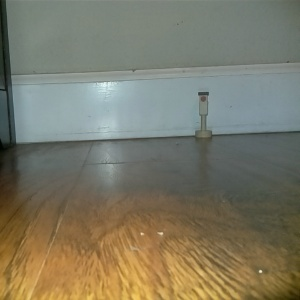traffic light red: (193, 90, 213, 140)
